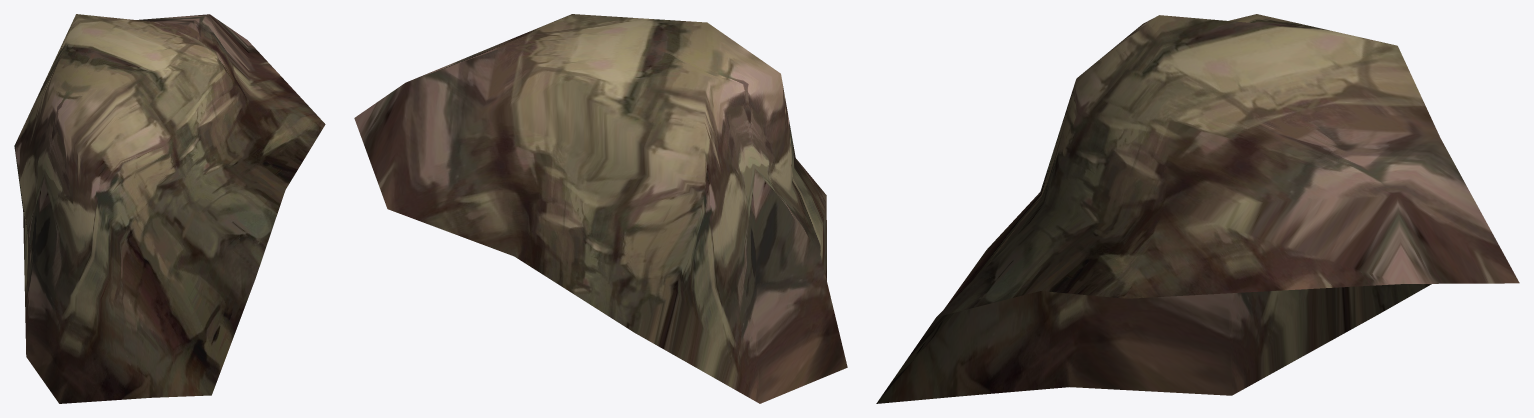
The model's file is mound_brown_small.fbx.
3 views of the same model, side by side, from view 1: azimuth 30°, elevation 25°; view 2: azimuth 150°, elevation 25°; view 3: azimuth 270°, elevation 25° (orthographic). The views are drawn at different scales.
Visible parts, largest first — view 1: mound_small_high; view 2: mound_small_high; view 3: mound_small_high.
Boxes of the visible parts, <box> form: mound_small_high: <box>14,14,325,403</box>; mound_small_high: <box>354,14,847,403</box>; mound_small_high: <box>876,14,1519,403</box>.
Bounding box in the file's own units: 6699 × 6117 × 8170.
1 material, 1 textured.
